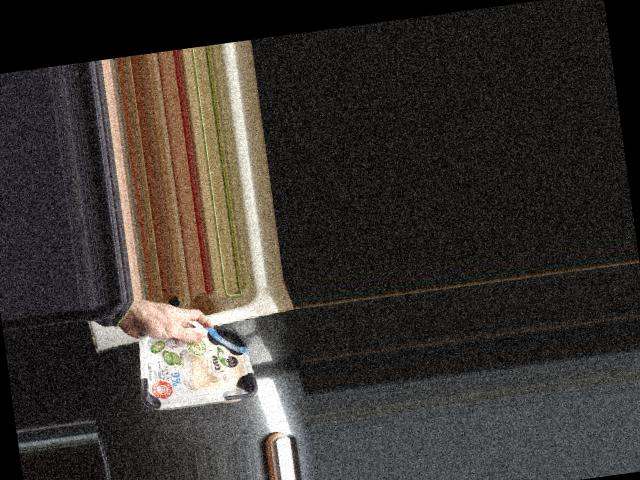cheese: (132, 312, 256, 412)
